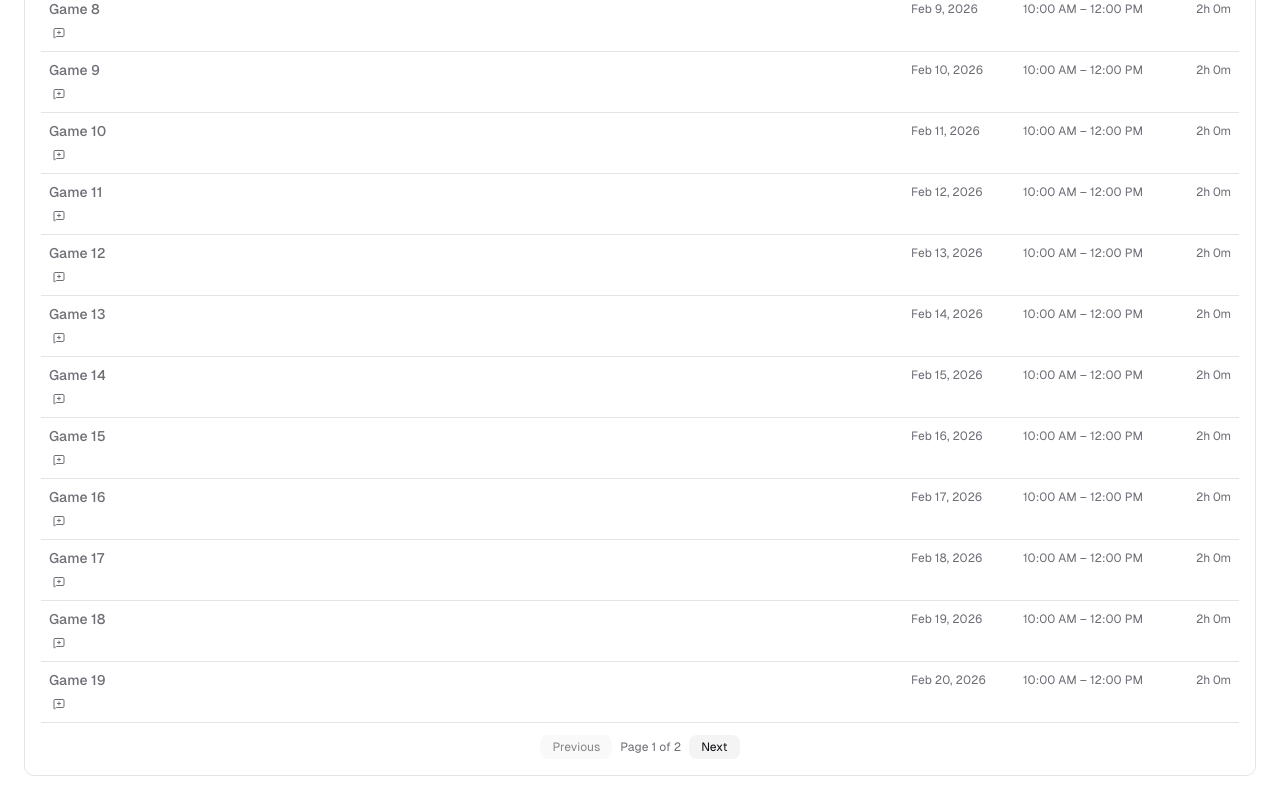
Test: Story 6.7: Library Stats Page › session pagination navigates pages
(page scrolled)
What coordinates should you click on to do the following:
click the button with test id "session-next"
I would click on:
 (714, 747)
Its box is left=689, top=735, right=740, bottom=759.
(page scrolled)
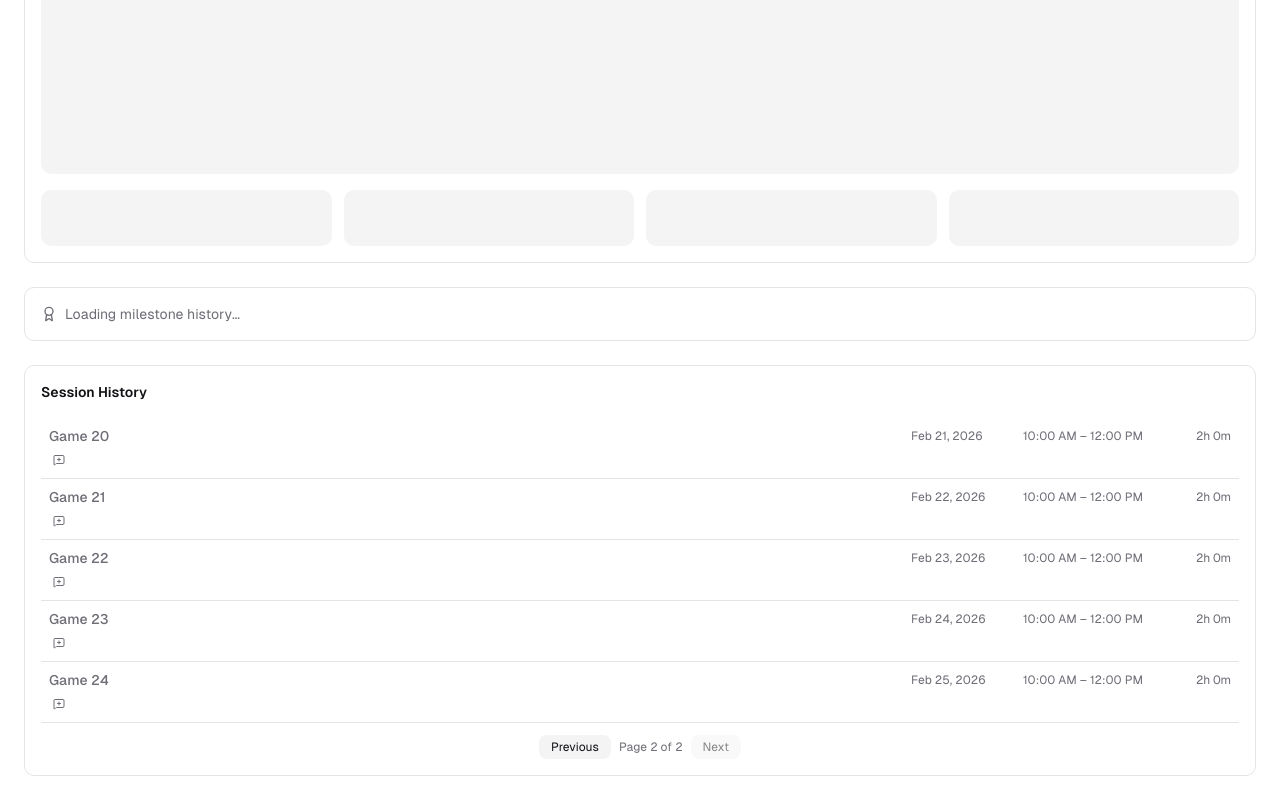
Expected: the text "Page 2 of 2" is shown, left=619, top=739, right=683, bottom=755
Expected: the element with test id "session-s20" is shown, left=41, top=418, right=1239, bottom=479
What coordinates should you click on to do the following:
click the button with test id "session-prev"
I would click on:
 (575, 747)
Its box is left=539, top=735, right=611, bottom=759.
(page scrolled)
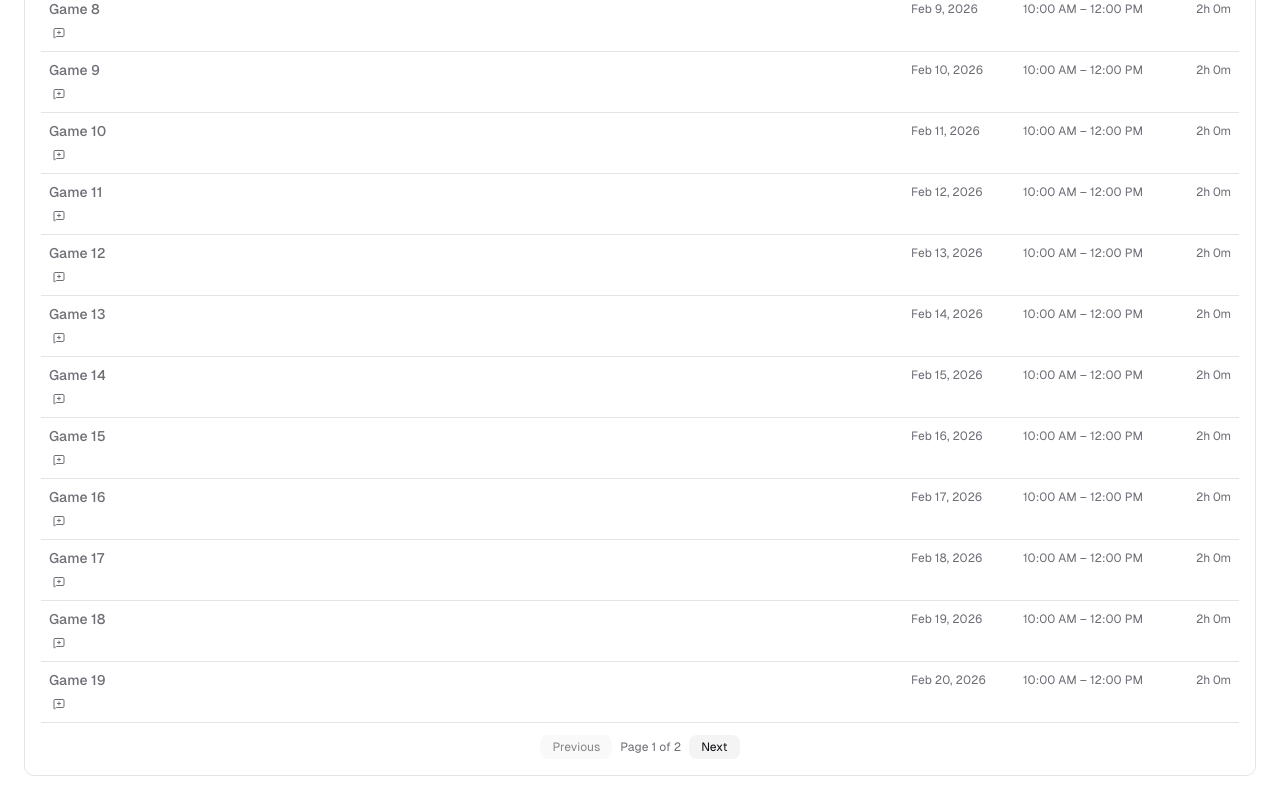
Expected: the text "Page 1 of 2" is shown, left=620, top=739, right=681, bottom=755
